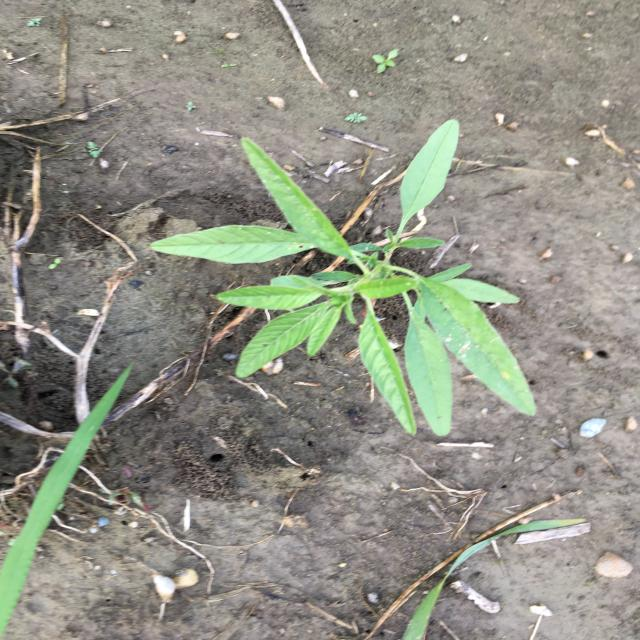Waterhemp: (146, 117, 541, 437)
